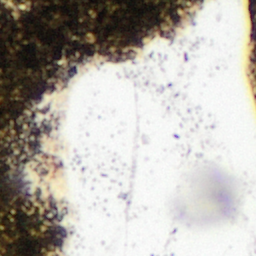cement_matrix: (0, 0, 198, 255), (248, 0, 255, 77)
gravel_crushed_stones: (20, 0, 255, 255)
